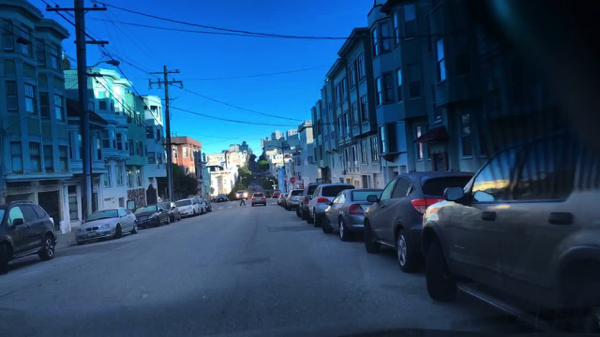car: (418, 132, 598, 337), (362, 171, 444, 272), (1, 200, 57, 271), (321, 188, 390, 242), (306, 182, 365, 226), (74, 207, 139, 245), (294, 182, 332, 220), (135, 204, 171, 228), (286, 190, 308, 211), (159, 202, 182, 222), (176, 199, 198, 217), (251, 193, 266, 206), (196, 197, 206, 213), (279, 193, 290, 207), (235, 190, 248, 199), (203, 200, 212, 212), (216, 195, 230, 202), (276, 194, 283, 205), (272, 190, 280, 197), (265, 190, 270, 197), (252, 186, 255, 191)
person: (239, 195, 247, 206)
traffic sign: (289, 177, 295, 183), (282, 175, 288, 180)
